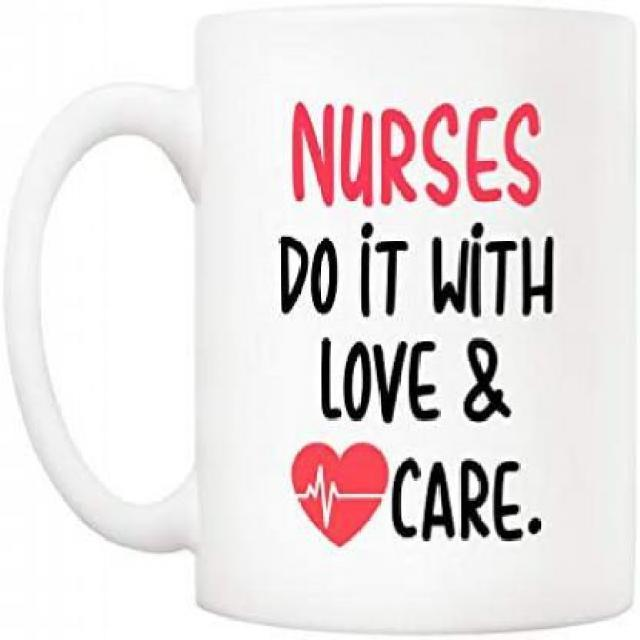taza: (0, 7, 640, 636)
